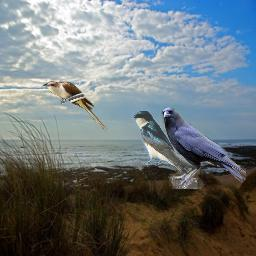Crow: (160, 107, 246, 189)
Cuckoo: (42, 81, 108, 131)
Swallow: (131, 110, 197, 174)
